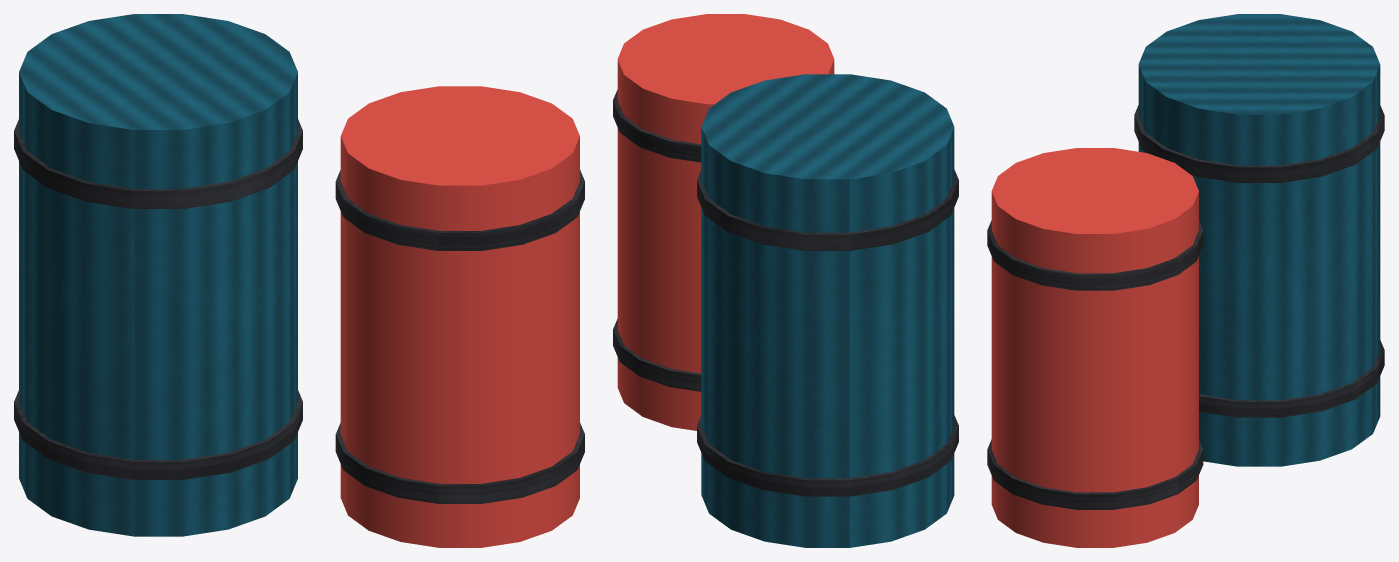
Rendered from Small_Main.fbx.
3 views of the same model, side by side, from view 1: azimuth 30°, elevation 25°; view 2: azimuth 150°, elevation 25°; view 3: azimuth 270°, elevation 25° (orthographic). The views are drawn at different scales.
Visible parts, largest first — view 1: Small_Main; view 2: Small_Main; view 3: Small_Main.
Part boxes in pixels (x1,y1,x2,y2): Small_Main: (14,14,584,547); Small_Main: (613,14,958,547); Small_Main: (987,14,1384,547).
Size of the model in its own units: 1.01 by 0.902 by 0.92.
Materials: 3 (2 with a texture image).
